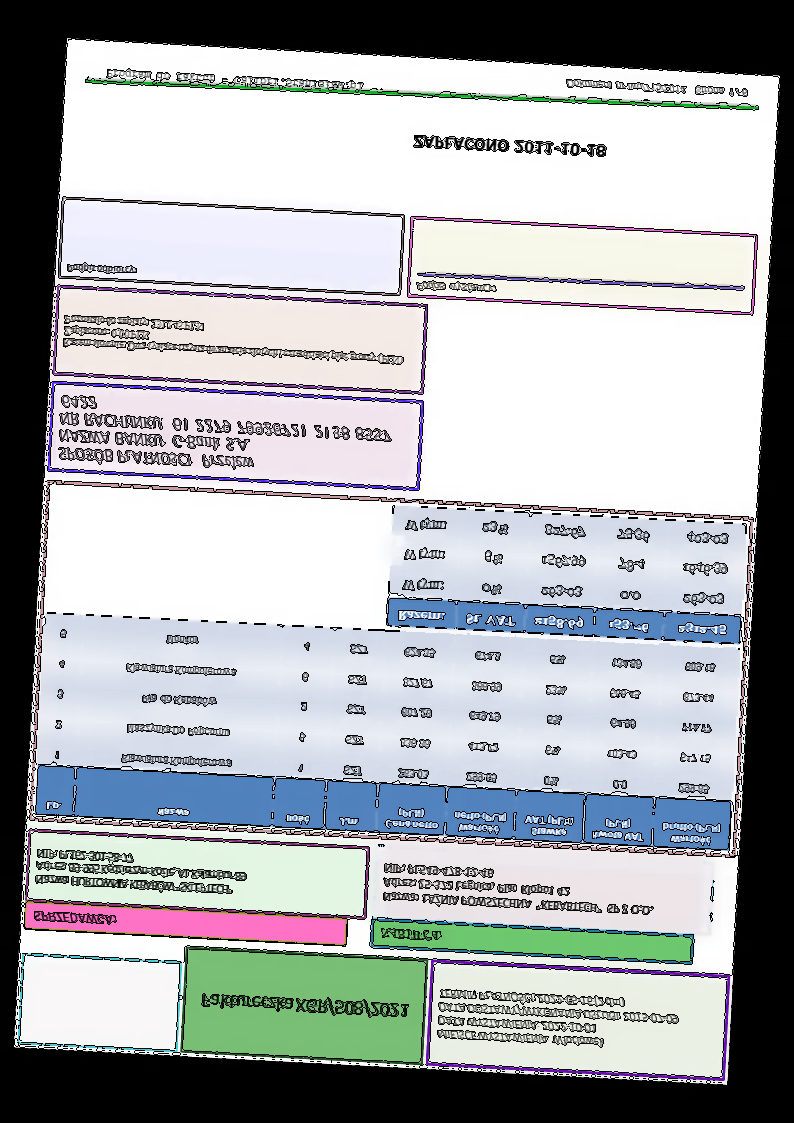Table: (32, 612, 739, 853), (384, 503, 745, 647)
TextBox: (54, 387, 398, 482), (57, 307, 410, 369), (431, 982, 682, 1055), (379, 857, 660, 922), (29, 844, 253, 899), (102, 64, 366, 96), (195, 987, 410, 1024), (406, 129, 611, 165), (561, 74, 752, 104), (412, 273, 498, 300), (27, 906, 118, 929), (60, 257, 140, 280), (375, 925, 443, 946)
